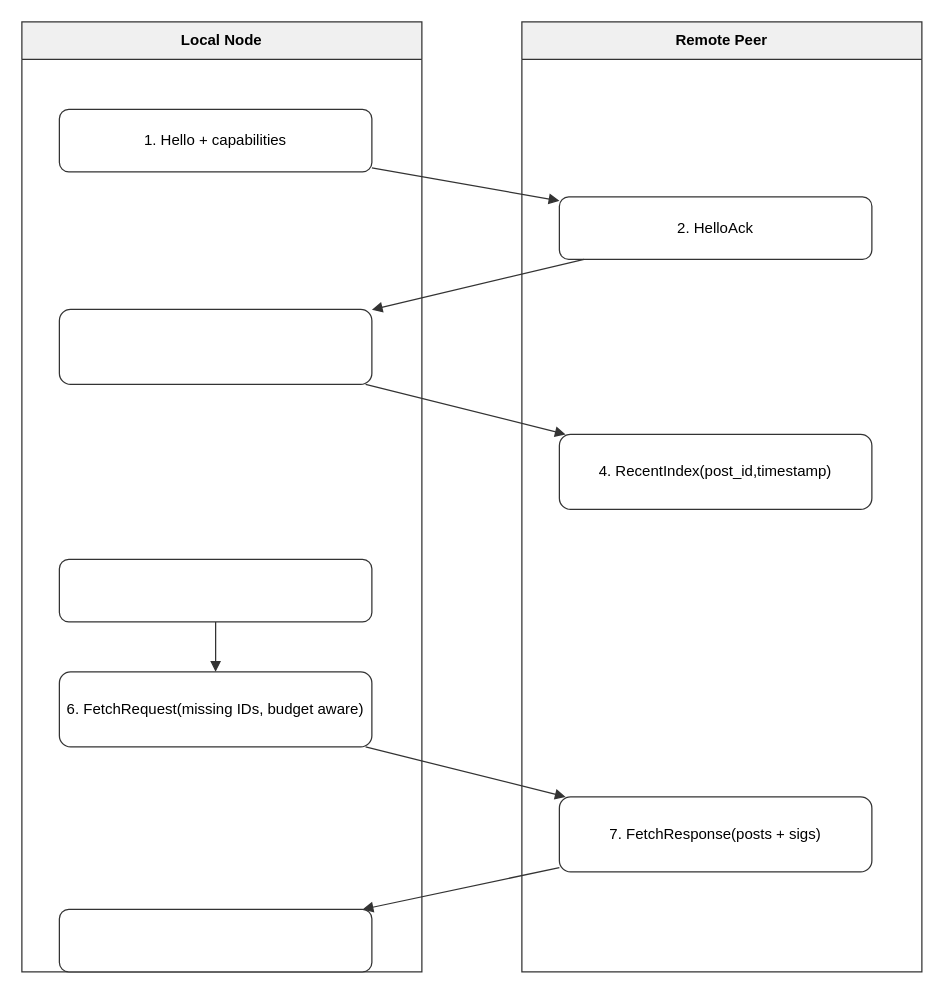
This 944x994 diagram has some shape labels left out. The shapes that lost their labels are listed below. From the top down, each one's centre as x and y in pixels, then its label:
At pixel 215 346: "3. Request RecentIndex(followed only)".
At pixel 215 590: "5. Diff local IDs vs remote IDs".
At pixel 215 940: "8. Validate, store, update feed index".
